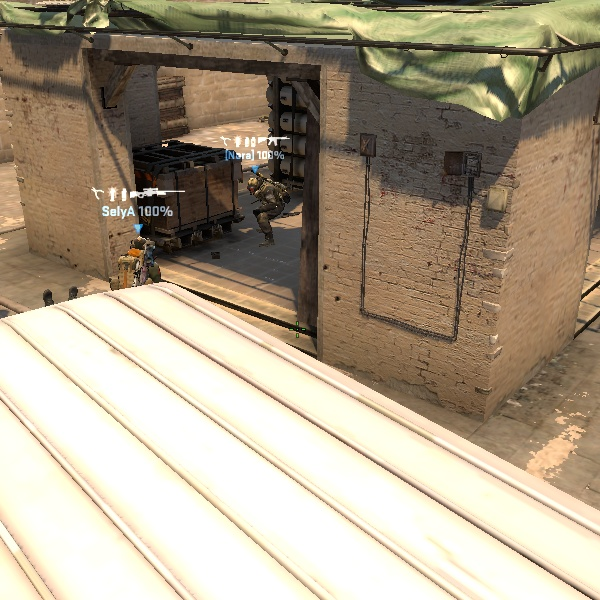t_body: (119, 232, 161, 283)
